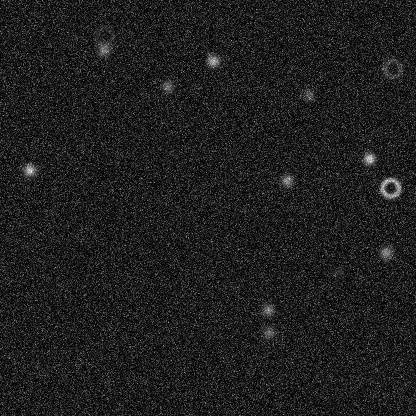Ring: (380, 56, 404, 80), (378, 175, 402, 199), (92, 23, 116, 47)
Spot: (377, 244, 393, 260), (300, 86, 316, 102), (95, 41, 111, 57), (329, 263, 345, 279), (159, 78, 175, 94), (204, 52, 220, 68), (21, 162, 37, 178), (259, 301, 275, 317), (279, 172, 295, 188), (361, 150, 377, 166), (260, 324, 276, 340)
